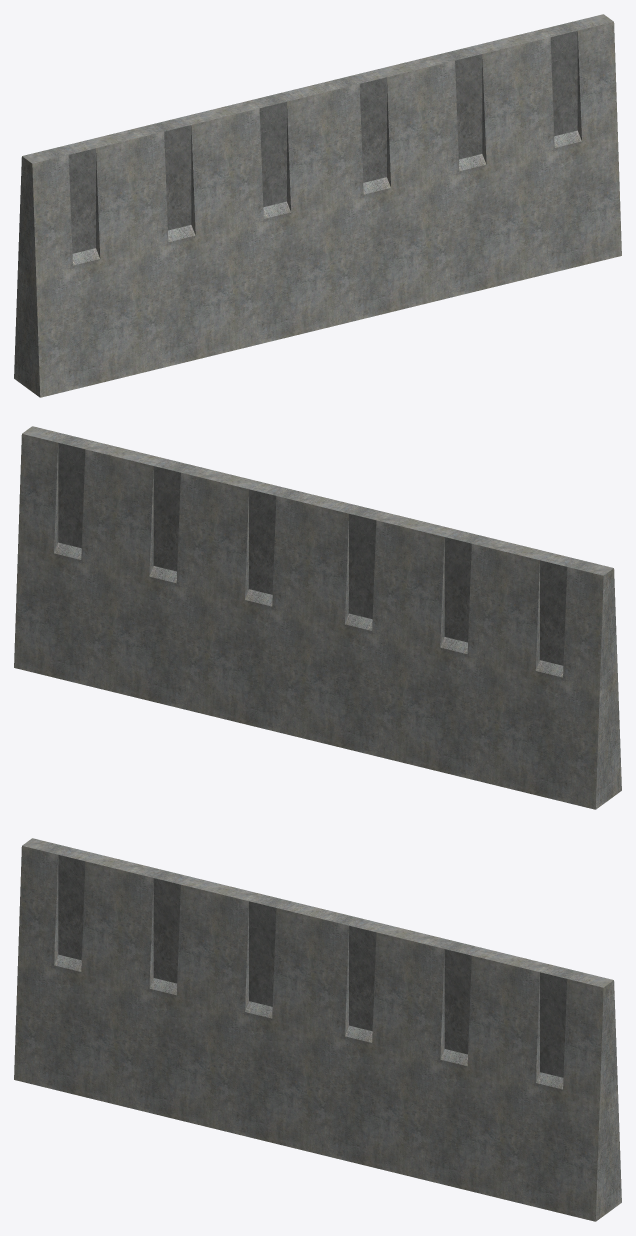
Rendered from mun_all_military_wall_weak_impl_16_s01_l1.fbx.
3 renders of one model, top to bottom at view 1: azimuth 30°, elevation 25°; view 2: azimuth 150°, elevation 25°; view 3: azimuth 330°, elevation 25°, orthographic.
Parts seen in each view (by area): view 1: mesh_node; view 2: mesh_node; view 3: mesh_node.
Boxes of the visible parts, x1,y1,x2,y2 form: mesh_node: [14, 14, 621, 397]; mesh_node: [14, 426, 621, 809]; mesh_node: [14, 838, 621, 1221].
Bounding box in the file's own units: 16 × 6 × 1.25.
